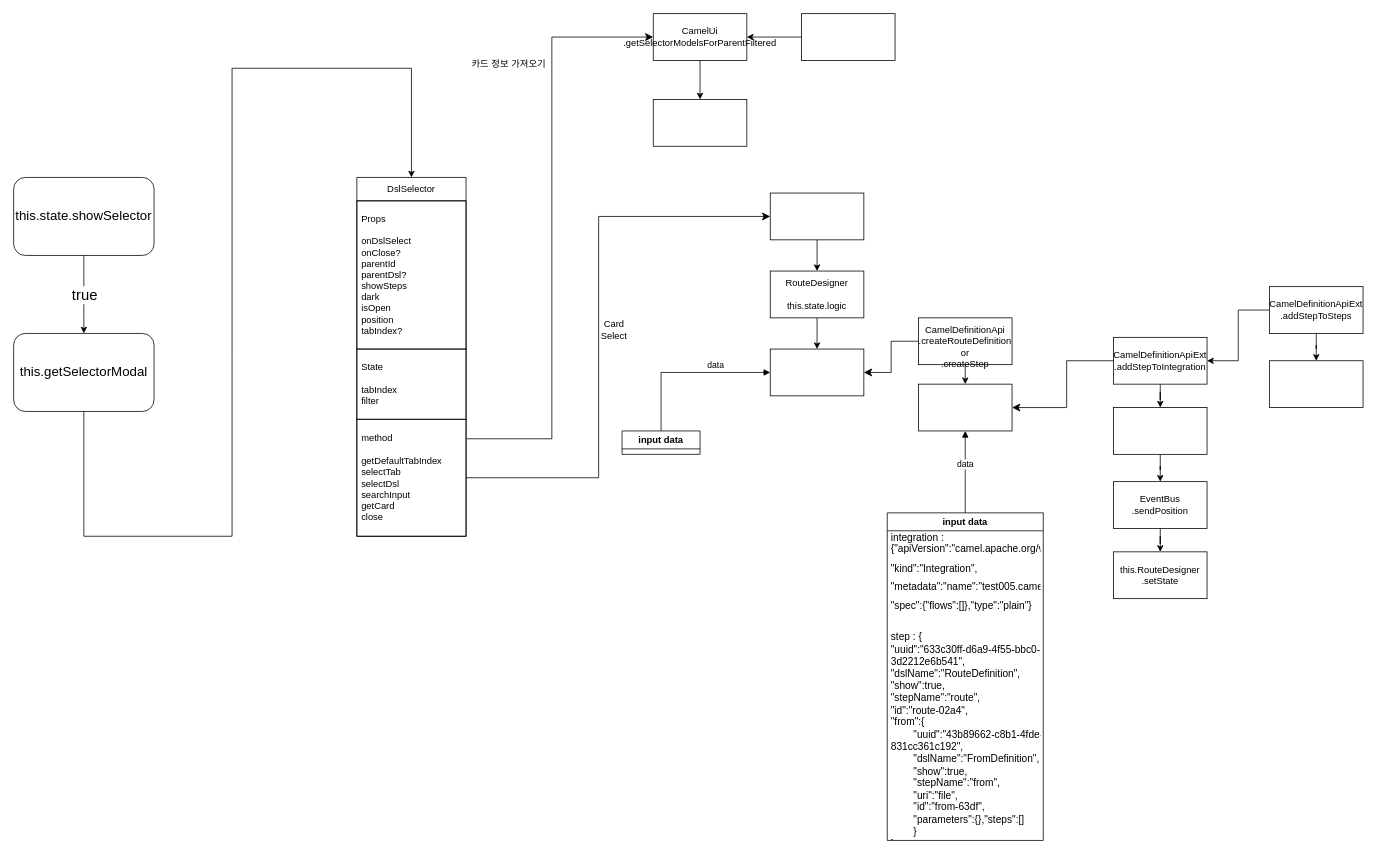
The diagram is 1377 pixels wide and 863 high, and some of its shapes have lost their labels. The box of each missing label's shape, as (x1, y1, x2, y2) in pixels:
CamelDefinitionApi .addStep: (918, 383, 1012, 431)
CamelDefinitionApiExt .addStepToStep: (1269, 360, 1363, 408)
CamelUi .getSelectorModelsForParent: (801, 13, 895, 60)
CamelUtil .cloneIntegration: (1113, 407, 1207, 454)
getCard: (652, 99, 747, 146)
RouteDesignerLogic onDslSelect: (769, 348, 864, 396)
selectDsl: (769, 192, 864, 240)
